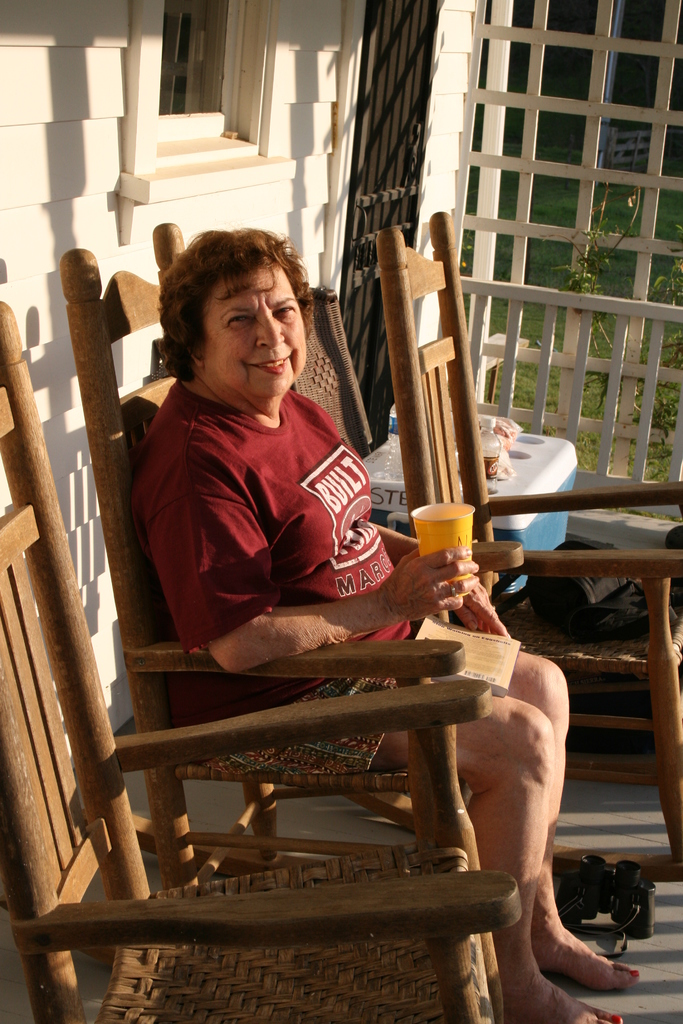Chair: (0, 300, 519, 1023), (375, 200, 682, 874)
